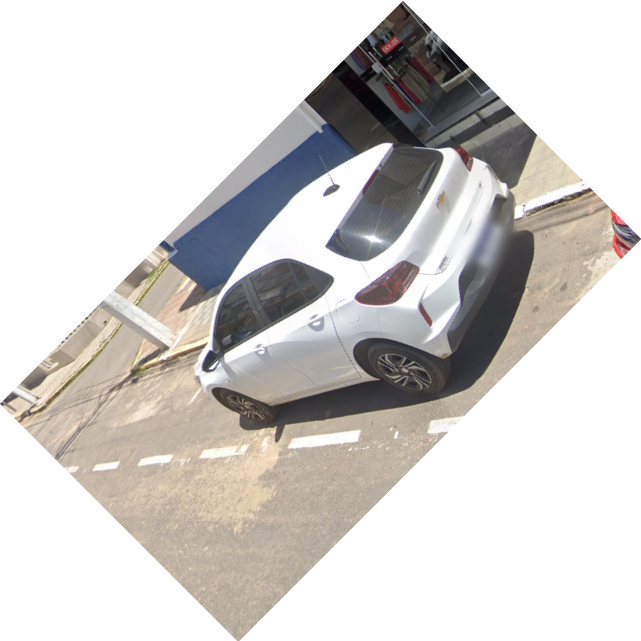car: (189, 145, 520, 429)
